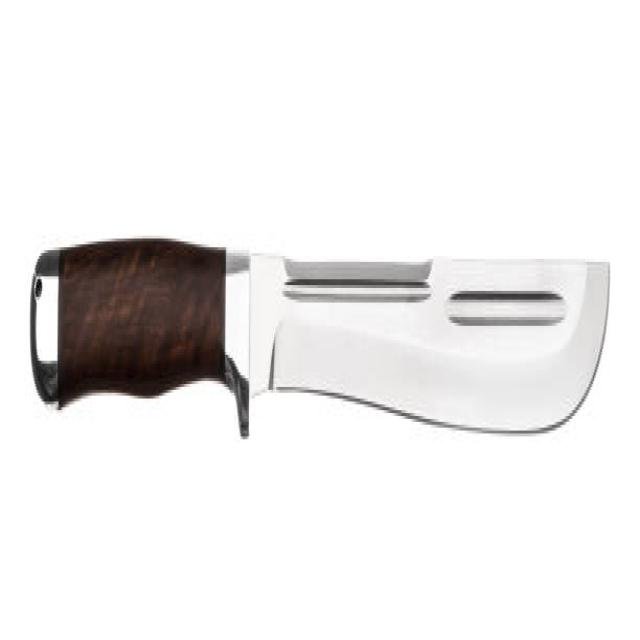knife: (24, 222, 614, 478)
